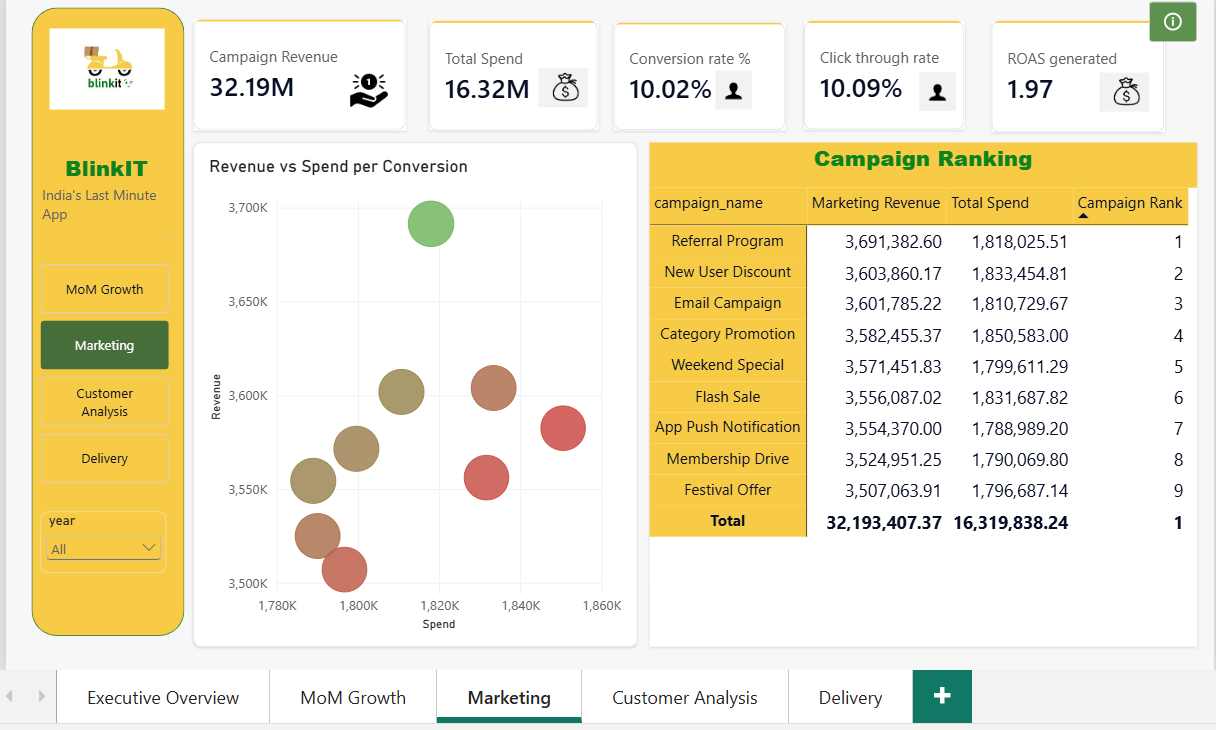

What the dashboard file says about the page in this screenshot:
{"tool":"powerbi","page":{"name":"Marketing  Performance","canvas":[1280,720],"ordinal":2},"visuals":[{"type":"group","id":"g1","title":"Group 1","box":[198.8,30.2,1030.7,120.9],"z":0},{"type":"cardVisual","fields":{"Data":["blinkit_marketing_performance.Total Spend"]},"box":[448.1,31.7,180,116],"z":0,"group":"g1"},{"type":"shape","box":[27,17.3,162.2,666.5],"z":1000},{"type":"cardVisual","fields":{"Data":["blinkit_marketing_performance.Conversion rate %"]},"box":[643.7,33.3,182.9,114.5],"z":1000,"group":"g1"},{"type":"cardVisual","fields":{"Data":["blinkit_marketing_performance.ROAS generated"]},"box":[1044.9,32.2,184,118.3],"z":2000,"group":"g1"},{"type":"image","box":[959.1,85.9,57.3,41.4],"z":2000},{"type":"cardVisual","fields":{"Data":["blinkit_marketing_performance.Click through rate"]},"box":[846.1,32.2,170.5,115.6],"z":3000,"group":"g1"},{"type":"pageNavigator","box":[36.6,288.9,136.8,233.8],"z":3000},{"type":"cardVisual","fields":{"Data":["blinkit_marketing_performance.Marketing Revenue"]},"box":[198.8,30.2,225.9,117.7],"z":4000,"group":"g1"},{"type":"textbox","title":"    BlinkIT","box":[38.5,171.4,136.8,90.7],"z":4000},{"type":"image","box":[742.3,84.2,57.3,41.4],"z":5000,"group":"g1"},{"type":"slicer","fields":{"Values":["Dimdate.year"]},"box":[36.6,552.7,133.6,65.2],"z":5000},{"type":"image","box":[30.2,39.8,154.3,85.9],"z":6000},{"type":"image","box":[362.7,84.3,44.5,42.9],"z":7000},{"type":"image","box":[564.7,81.1,52.5,42.9],"z":8000},{"type":"scatterChart","title":"Revenue vs Spend per Conversion","fields":{"Category":["blinkit_marketing_performance.campaign_name"],"Size":["blinkit_marketing_performance.ROAS generated"],"X":["Sum(blinkit_marketing_performance.spend)"],"Y":["Sum(blinkit_marketing_performance.revenue_generated)"]},"box":[198.8,160.7,470.8,534.4],"z":9000},{"type":"pivotTable","title":"Campaign Ranking","fields":{"Rows":["blinkit_marketing_performance.campaign_name"],"Values":["blinkit_marketing_performance.Marketing Revenue","blinkit_marketing_performance.Total Spend","blinkit_marketing_performance.Campaign Rank"]},"box":[682.4,160.7,580.6,534.4],"z":10000},{"type":"actionButton","box":[1212,11.1,50.9,42.9],"z":11000},{"type":"image","box":[1159.6,85.9,52.5,42.9],"z":12000}]}

Visuals, with their boxes on the page's 1280x720 design canvas (x1, y1, x2, y2). These are canvas units, not pixel positions in the 1216x730 screenshot, which may show the page scaled, cropped or inside an application window:
"Group 1" group: [199,30,1230,151]
cardVisual - blinkit_marketing_performance.Total Spend: [448,32,628,148]
shape: [27,17,189,684]
cardVisual - blinkit_marketing_performance.Conversion rate %: [644,33,827,148]
cardVisual - blinkit_marketing_performance.ROAS generated: [1045,32,1229,150]
image: [959,86,1016,127]
cardVisual - blinkit_marketing_performance.Click through rate: [846,32,1017,148]
pageNavigator: [37,289,173,523]
cardVisual - blinkit_marketing_performance.Marketing Revenue: [199,30,425,148]
"    BlinkIT" textbox: [38,171,175,262]
image: [742,84,800,126]
slicer - Dimdate.year: [37,553,170,618]
image: [30,40,184,126]
image: [363,84,407,127]
image: [565,81,617,124]
"Revenue vs Spend per Conversion" scatterChart: [199,161,670,695]
"Campaign Ranking" pivotTable: [682,161,1263,695]
actionButton: [1212,11,1263,54]
image: [1160,86,1212,129]
